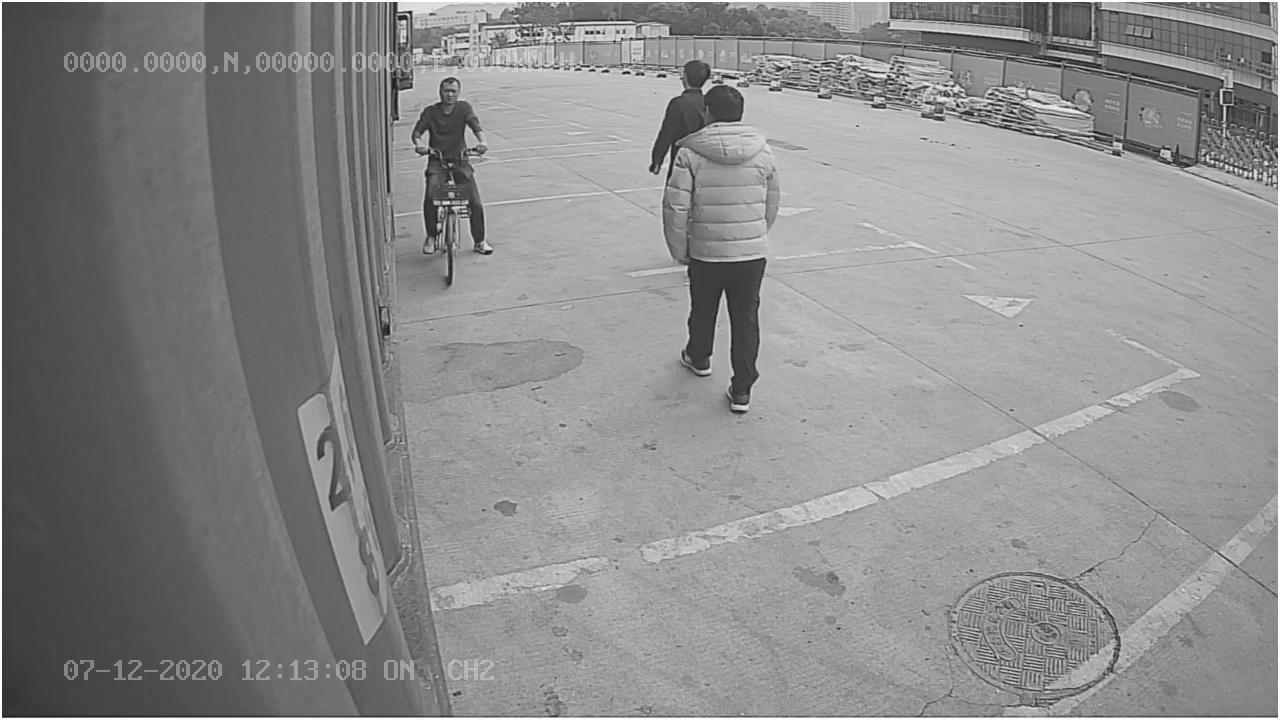person: (660, 80, 782, 415)
